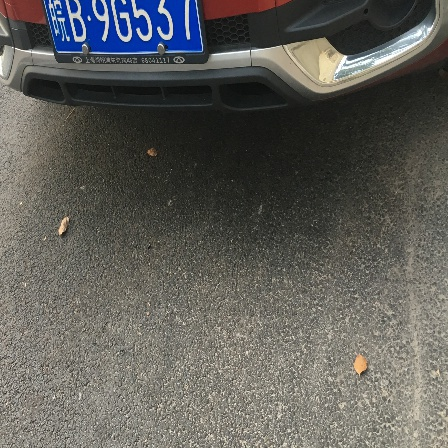plate: (43, 1, 210, 68)
